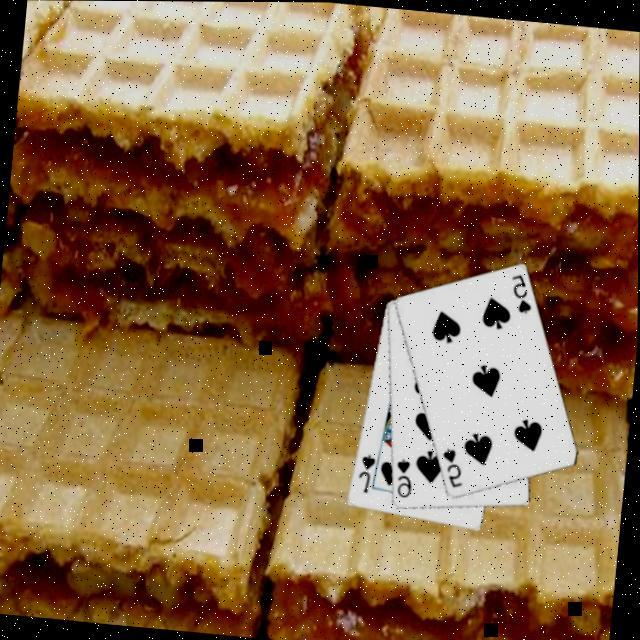5S: (438, 444, 471, 489), (507, 268, 539, 314)
9S: (392, 454, 418, 499)
JS: (356, 448, 380, 494)
